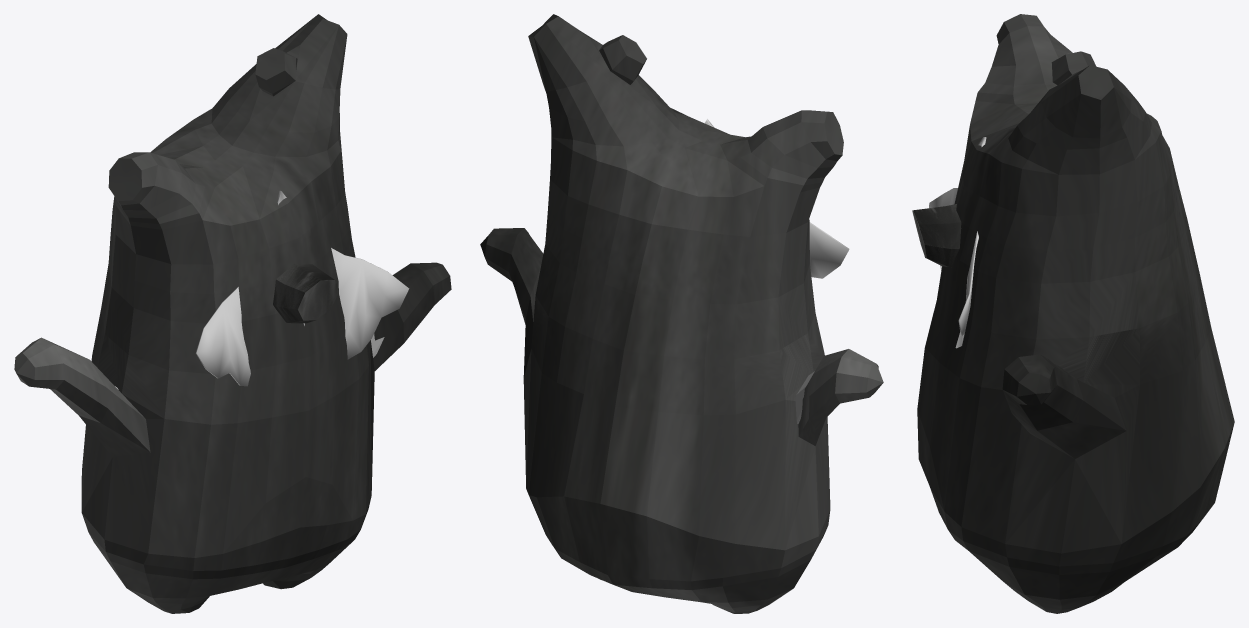
File: frame_0023.obj
3 views of the same model, side by side, from view 1: azimuth 30°, elevation 25°; view 2: azimuth 150°, elevation 25°; view 3: azimuth 270°, elevation 25° (orthographic). The views are drawn at different scales.
Visible parts, largest first — view 1: korok, leaf, nose; view 2: korok, leaf; view 3: korok, nose, leaf.
Part boxes in pixels (bbox=[...]): korok: bbox=[14, 14, 451, 613]; leaf: bbox=[196, 190, 409, 386]; nose: bbox=[273, 263, 338, 323]; korok: bbox=[480, 14, 883, 613]; leaf: bbox=[704, 119, 849, 278]; korok: bbox=[917, 14, 1234, 613]; nose: bbox=[912, 204, 961, 267]; leaf: bbox=[929, 137, 986, 348].
Size of the model in its own units: 1.83 by 2.32 by 1.18.
